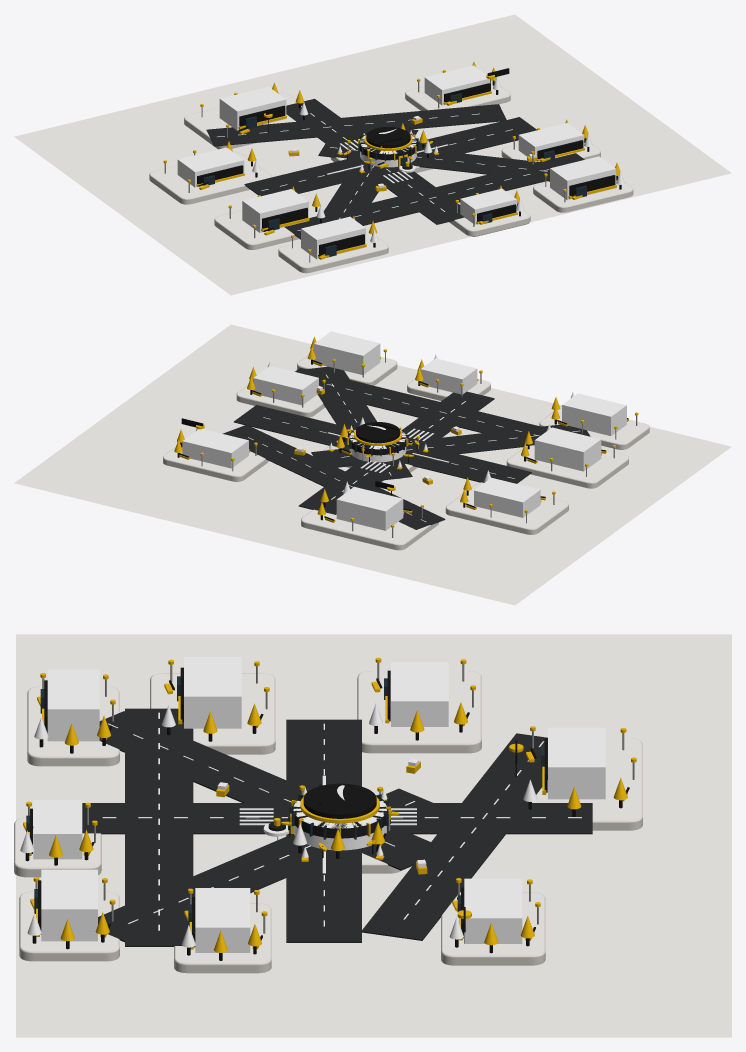
File: nike-city-isometric.glb
3 renders of one model, top to bottom at view 1: azimuth 30°, elevation 25°; view 2: azimuth 150°, elevation 25°; view 3: azimuth 270°, elevation 25°, orthographic. The views are drawn at different scales.
Parts seen in each view (by area): view 1: object 1, object 2, object 16, object 31, object 73, object 60, object 108, object 213, object 171, object 47, object 130, object 172 (+14 smaller); view 2: object 1, object 16, object 31, object 73, object 2, object 47, object 60, object 108, object 129, object 171, object 130, object 172 (+14 smaller); view 3: object 1, object 31, object 16, object 2, object 73, object 108, object 47, object 60, object 171, object 130, object 172, object 256 (+14 smaller).
Boxes of the visible parts, left/top/right/bottom form: object 1: left=14, top=14, right=731, bottom=295; object 2: left=206, top=104, right=506, bottom=146; object 16: left=244, top=117, right=536, bottom=196; object 31: left=284, top=153, right=584, bottom=239; object 73: left=286, top=98, right=464, bottom=224; object 60: left=318, top=142, right=563, bottom=181; object 108: left=149, top=152, right=271, bottom=204; object 213: left=278, top=229, right=388, bottom=273; object 171: left=214, top=199, right=318, bottom=249; object 47: left=322, top=129, right=418, bottom=221; object 130: left=219, top=87, right=286, bottom=130; object 172: left=242, top=189, right=308, bottom=232; object 1: left=14, top=324, right=731, bottom=605; object 16: left=234, top=405, right=531, bottom=483; object 31: left=295, top=368, right=547, bottom=444; object 73: left=298, top=391, right=494, bottom=514; object 2: left=222, top=424, right=445, bottom=529; object 47: left=311, top=424, right=590, bottom=467; object 60: left=302, top=366, right=412, bottom=480; object 108: left=445, top=482, right=568, bottom=534; object 129: left=301, top=509, right=438, bottom=550; object 171: left=506, top=445, right=628, bottom=488; object 130: left=336, top=486, right=403, bottom=530; object 172: left=534, top=427, right=601, bottom=471; object 1: left=16, top=634, right=731, bottom=1037; object 31: left=125, top=708, right=193, bottom=946; object 16: left=286, top=719, right=361, bottom=942; object 2: left=361, top=733, right=547, bottom=940; object 73: left=82, top=803, right=592, bottom=834; object 108: left=357, top=671, right=481, bottom=753; object 47: left=99, top=711, right=445, bottom=870; object 60: left=98, top=788, right=445, bottom=942; object 171: left=150, top=673, right=275, bottom=754; object 130: left=548, top=727, right=605, bottom=799; object 172: left=184, top=657, right=241, bottom=728; object 256: left=41, top=869, right=97, bottom=941.
Size of the model in its own units: 24 by 1.37 by 18.05.
